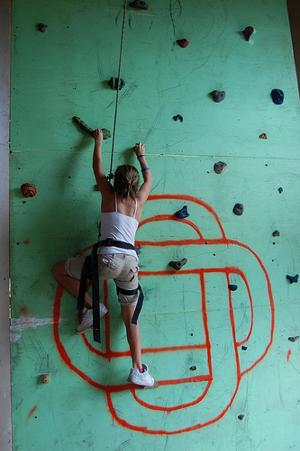person: (52, 129, 156, 390)
